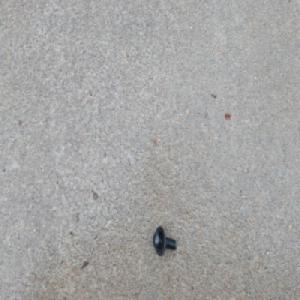BoltWasher: (152, 225, 176, 256)
